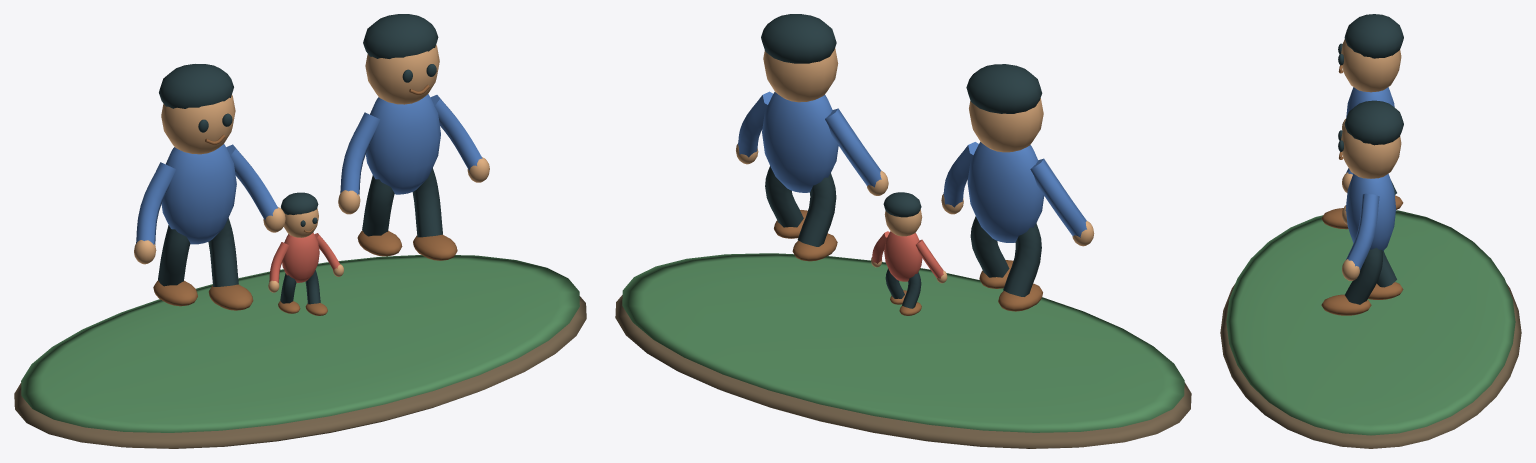
The model's file is complete-second-uncle-pair.glb.
3 renders of one model, left to right at view 1: azimuth 30°, elevation 25°; view 2: azimuth 150°, elevation 25°; view 3: azimuth 270°, elevation 25°, orthographic. The views are drawn at different scales.
Visible parts, largest first — view 1: complete-second-uncle-pair_surface_01, complete-second-uncle-pair_surface_05, complete-second-uncle-pair_surface_03, complete-second-uncle-pair_surface_00, complete-second-uncle-pair_surface_02, complete-second-uncle-pair_surface_04, complete-second-uncle-pair_surface_06; view 2: complete-second-uncle-pair_surface_01, complete-second-uncle-pair_surface_05, complete-second-uncle-pair_surface_03, complete-second-uncle-pair_surface_00, complete-second-uncle-pair_surface_02, complete-second-uncle-pair_surface_04, complete-second-uncle-pair_surface_06; view 3: complete-second-uncle-pair_surface_01, complete-second-uncle-pair_surface_03, complete-second-uncle-pair_surface_00, complete-second-uncle-pair_surface_02, complete-second-uncle-pair_surface_05, complete-second-uncle-pair_surface_04.
Part boxes in pixels (<box>): complete-second-uncle-pair_surface_01: <box>21,255,579,432</box>; complete-second-uncle-pair_surface_05: <box>136,94,482,244</box>; complete-second-uncle-pair_surface_03: <box>158,14,442,304</box>; complete-second-uncle-pair_surface_00: <box>14,296,586,448</box>; complete-second-uncle-pair_surface_02: <box>134,45,489,292</box>; complete-second-uncle-pair_surface_04: <box>153,84,457,315</box>; complete-second-uncle-pair_surface_06: <box>269,232,340,282</box>; complete-second-uncle-pair_surface_01: <box>622,253,1184,432</box>; complete-second-uncle-pair_surface_05: <box>738,91,1086,242</box>; complete-second-uncle-pair_surface_03: <box>761,14,1042,308</box>; complete-second-uncle-pair_surface_00: <box>615,295,1191,448</box>; complete-second-uncle-pair_surface_02: <box>736,48,1094,283</box>; complete-second-uncle-pair_surface_04: <box>774,210,1042,315</box>; complete-second-uncle-pair_surface_06: <box>872,231,943,281</box>; complete-second-uncle-pair_surface_01: <box>1226,210,1515,435</box>; complete-second-uncle-pair_surface_03: <box>1338,14,1403,304</box>; complete-second-uncle-pair_surface_00: <box>1220,283,1521,448</box>; complete-second-uncle-pair_surface_02: <box>1341,39,1401,280</box>; complete-second-uncle-pair_surface_05: <box>1345,87,1395,269</box>; complete-second-uncle-pair_surface_04: <box>1321,65,1403,315</box>.
Size of the model in its own units: 4.56 by 2.61 by 2.5.
